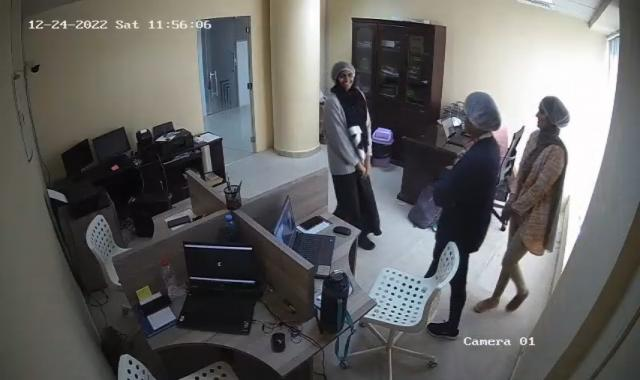hairnet: (462, 90, 500, 137), (537, 94, 568, 138), (327, 59, 357, 88)
